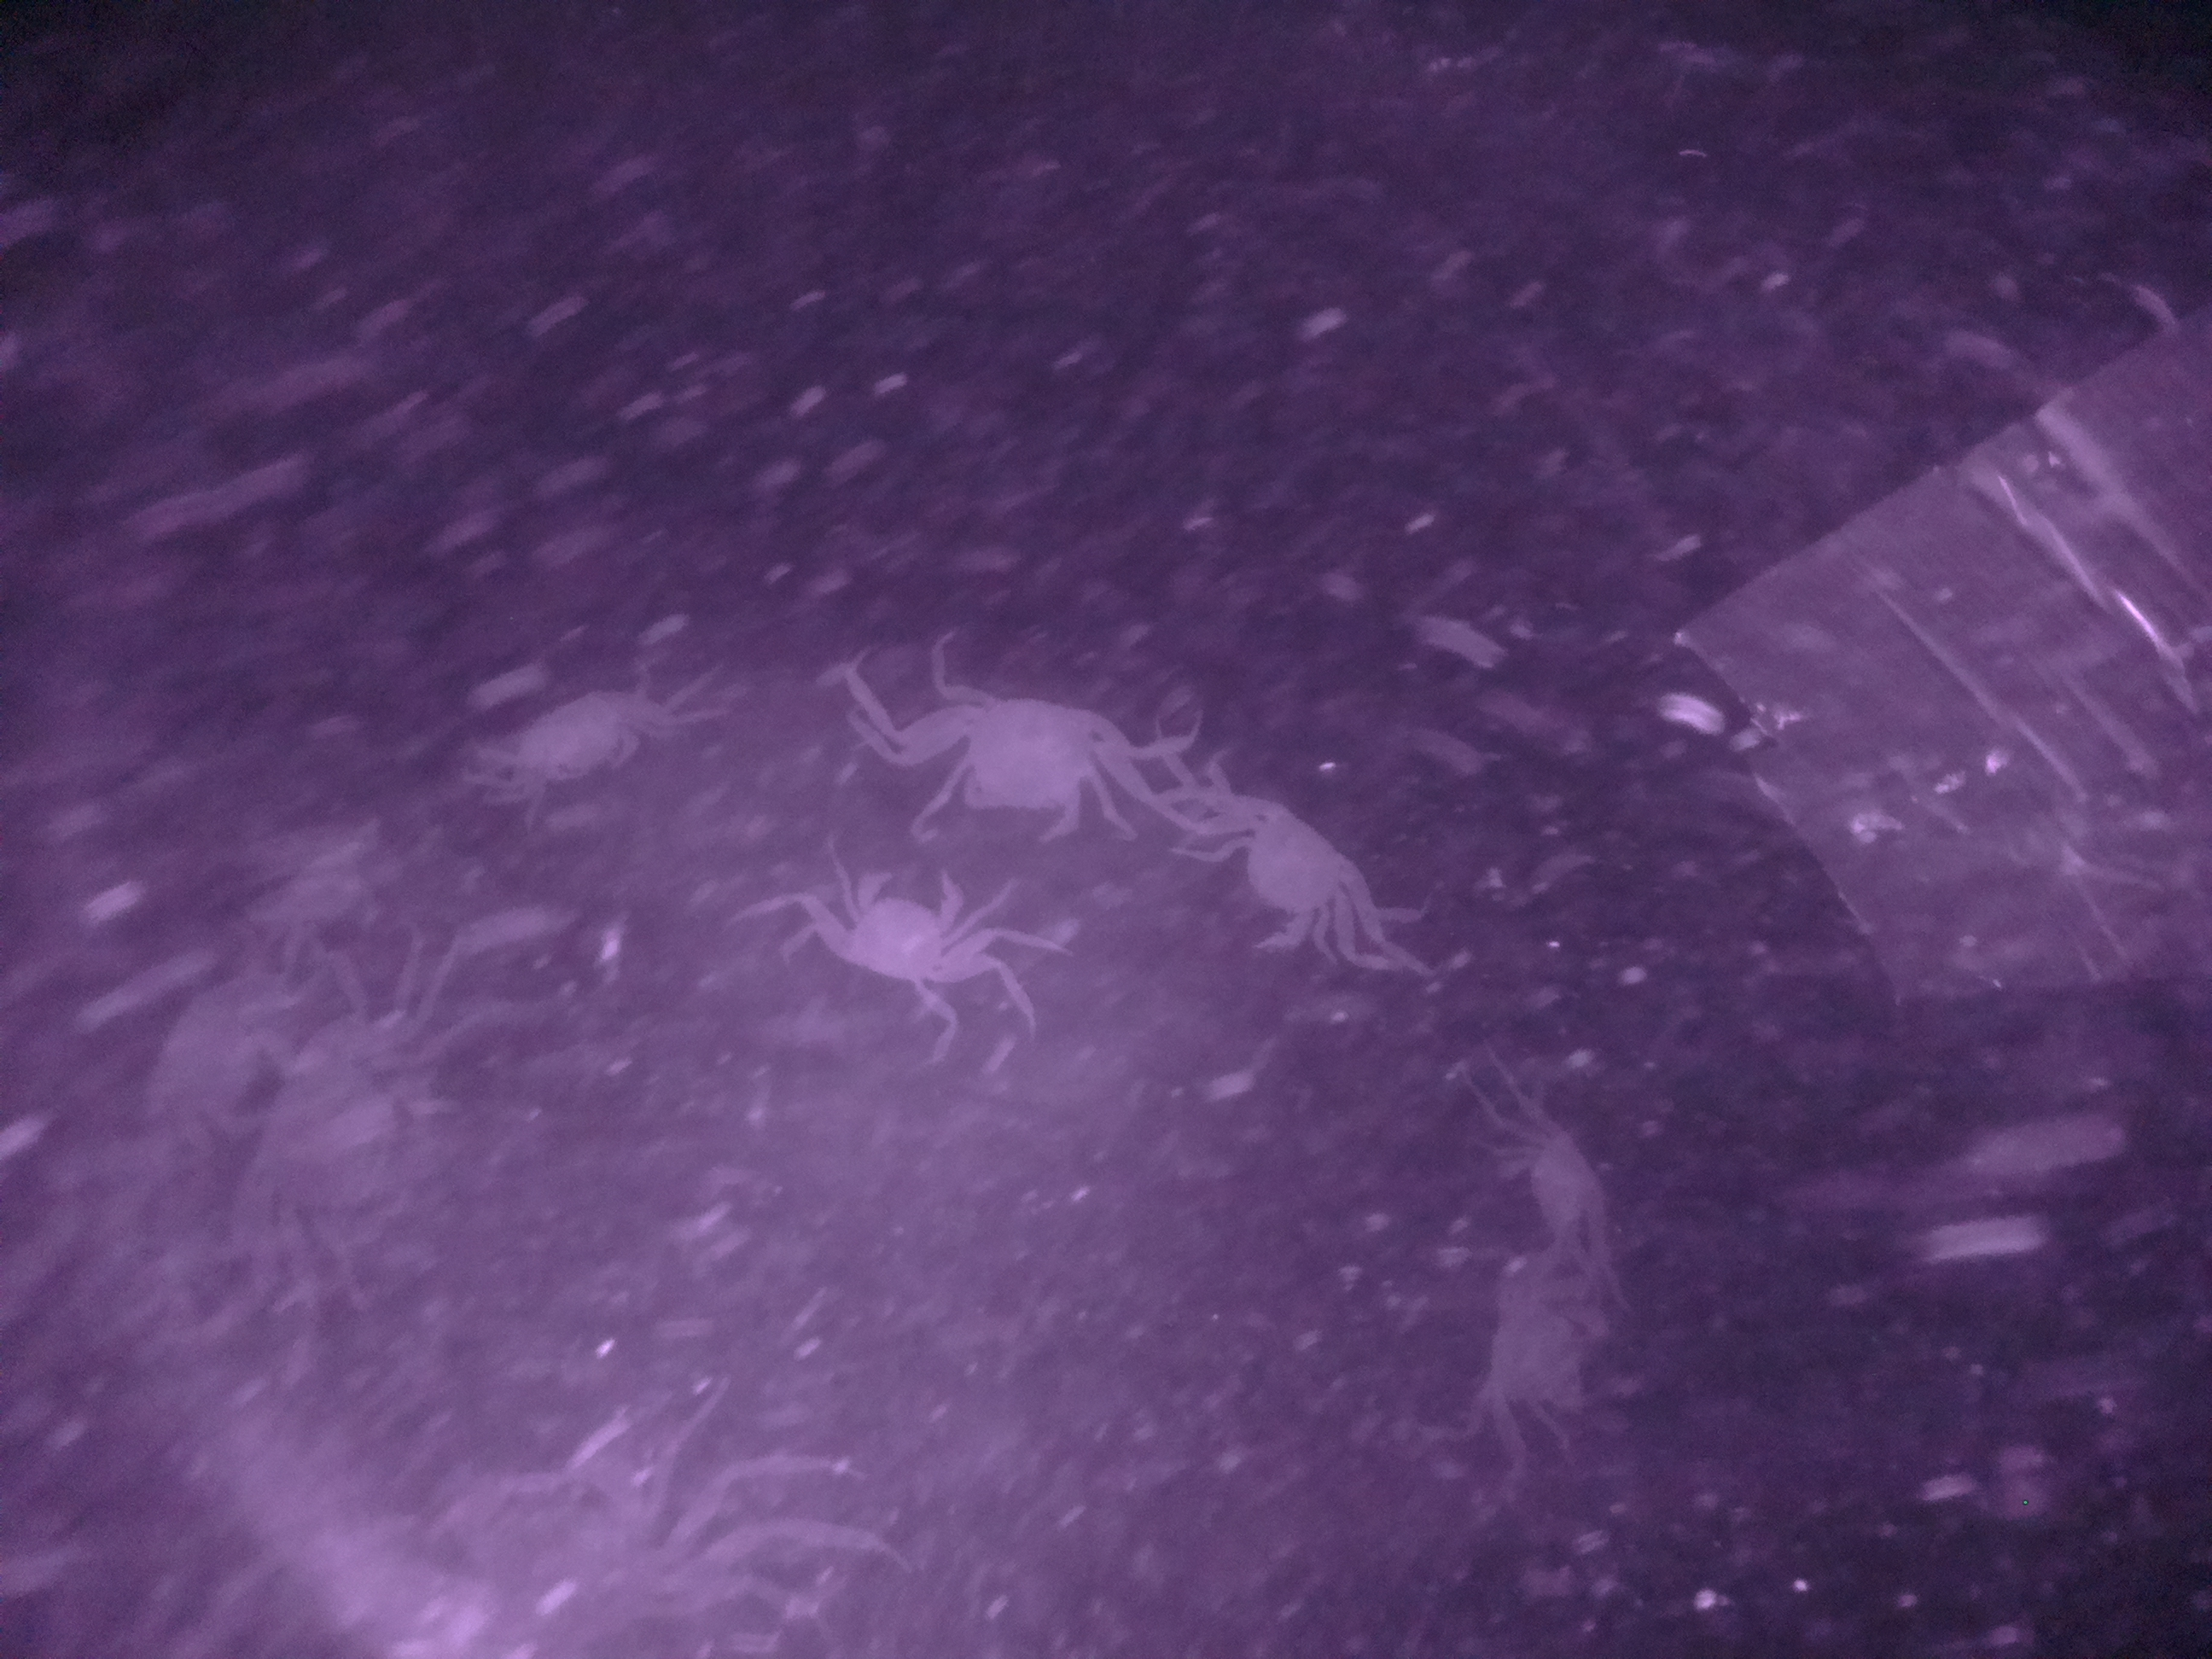Crab: (899, 664, 1150, 833), (1191, 788, 1385, 978), (488, 652, 700, 810), (806, 864, 993, 1006)
